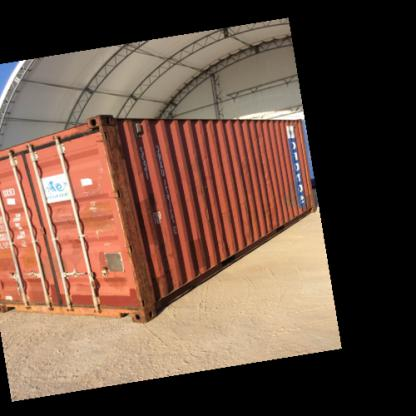Damage: (99, 124, 136, 223), (197, 122, 219, 158), (256, 148, 274, 192), (243, 200, 259, 247), (198, 180, 212, 224)
